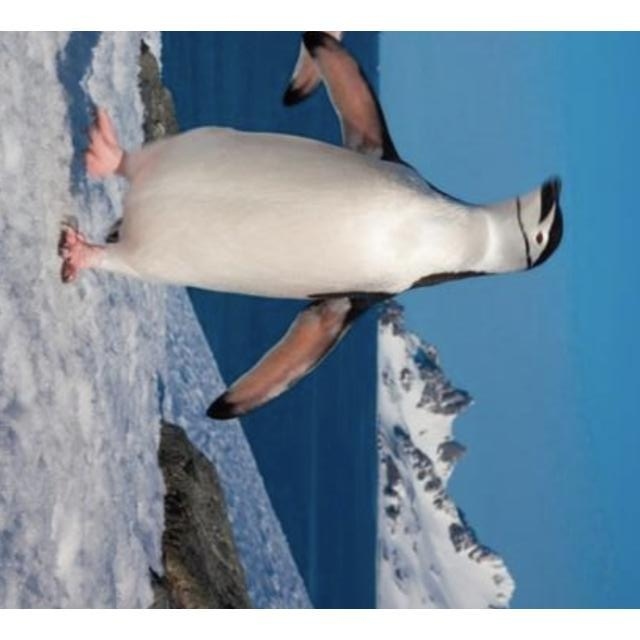penguin: (55, 34, 566, 420)
